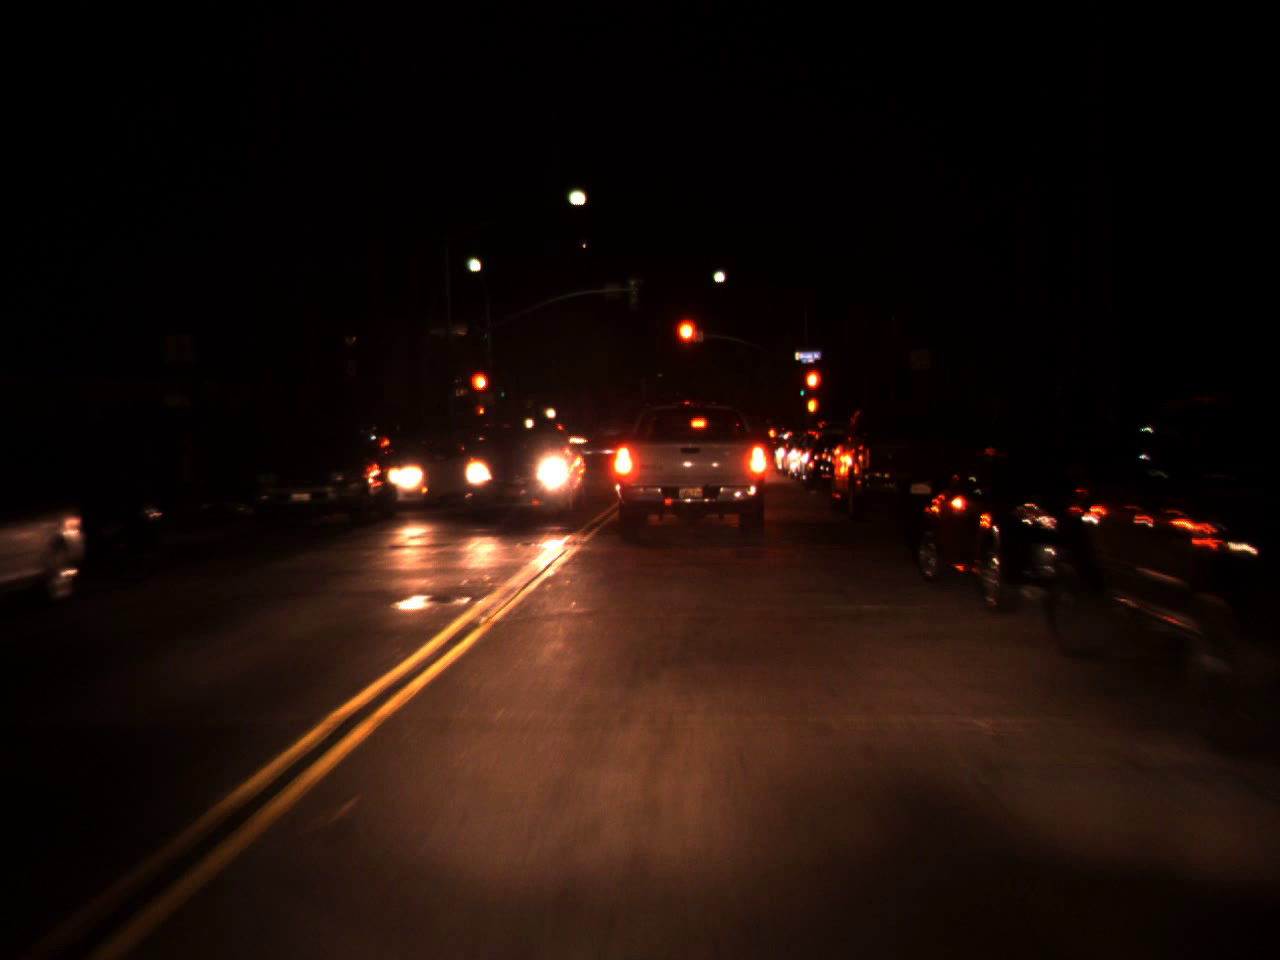stop: (673, 314, 700, 370), (468, 370, 492, 413), (802, 368, 823, 411)
